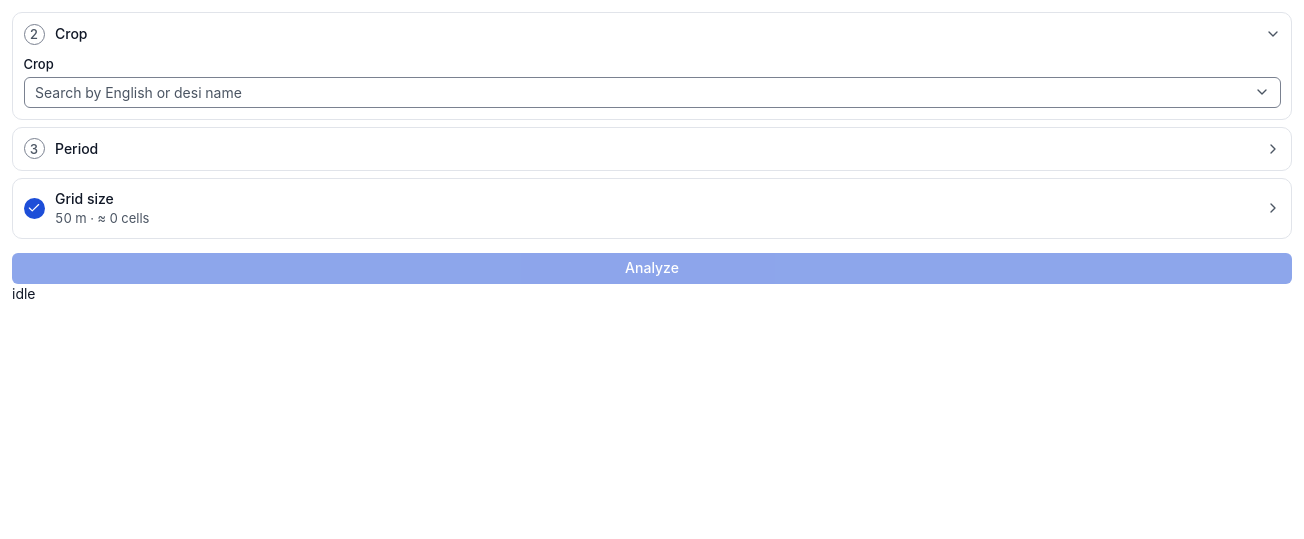
it: AnalysisSetupPanel › flags an end date before the start date as soon as either is edited
Click the button "3 Period": click(78, 147) [13, 128, 1291, 170]
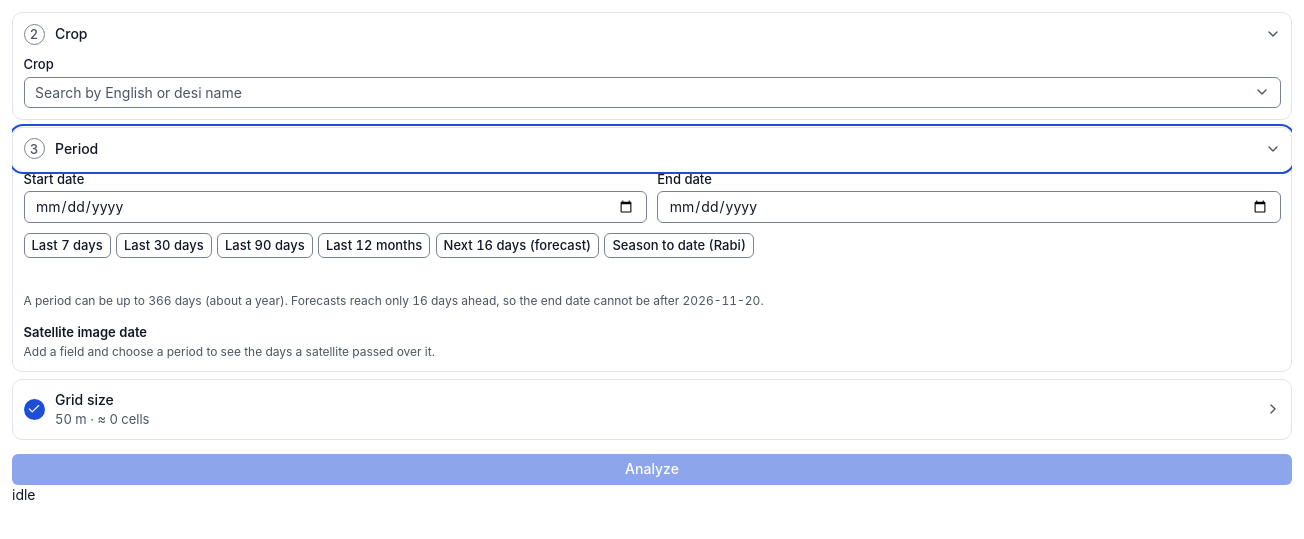
In the date field labelled "Start date": (335, 207) [24, 191, 647, 222], type "2026-10-20"
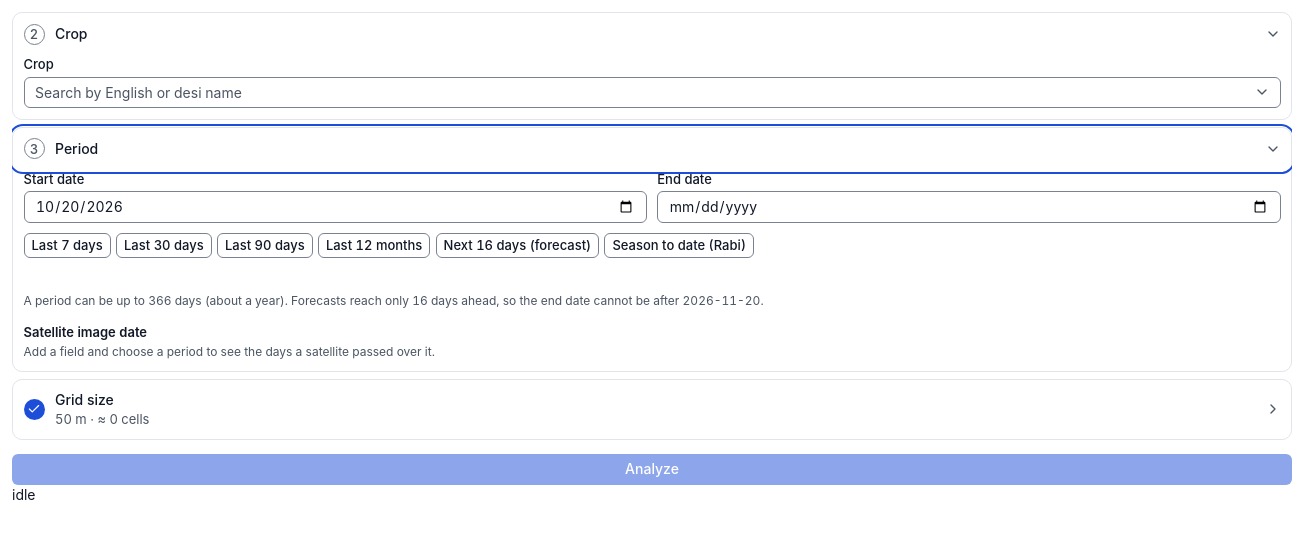
In the date field labelled "End date": (969, 207) [657, 191, 1281, 222], type "2026-10-05"
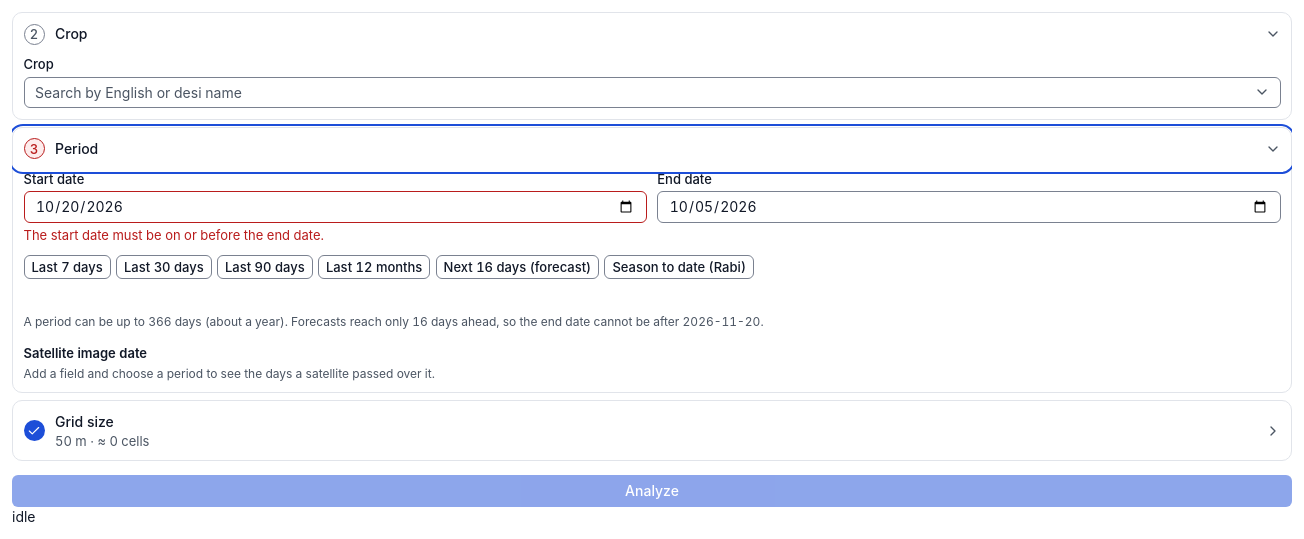
Expected: the text "The start date must be on or before the end date." is shown, [24, 227, 324, 243]
